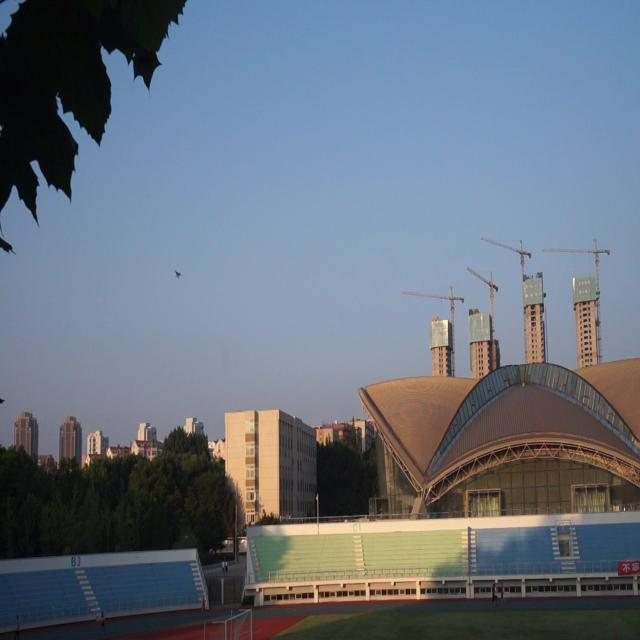drone: (171, 266, 186, 281)
